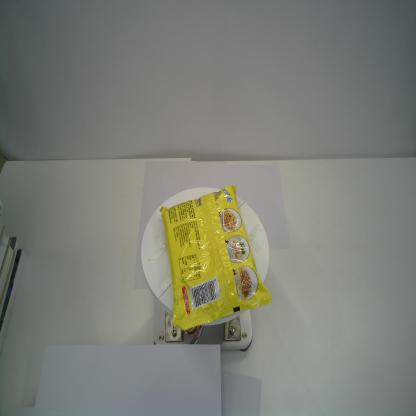Instant Noodles: (159, 183, 272, 332)
